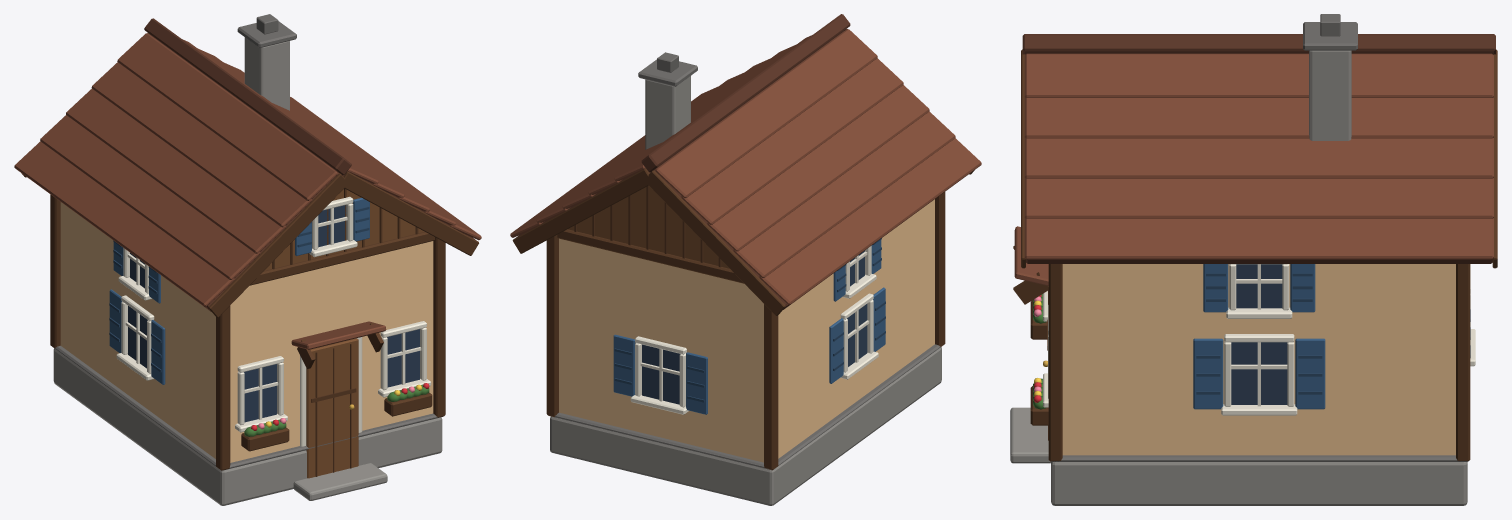
The model's file is house_3.glb.
3 renders of one model, left to right at view 1: azimuth 30°, elevation 25°; view 2: azimuth 150°, elevation 25°; view 3: azimuth 270°, elevation 25°, orthographic. The views are drawn at different scales.
Parts seen in each view (by area): view 1: House3; view 2: House3; view 3: House3.
Part boxes in pixels (x1=…): House3: x1=14, y1=14, x2=481, y2=505; House3: x1=510, y1=14, x2=981, y2=505; House3: x1=1010, y1=14, x2=1497, y2=505.
Size of the model in its own units: 3.89 by 4.91 by 4.8.
